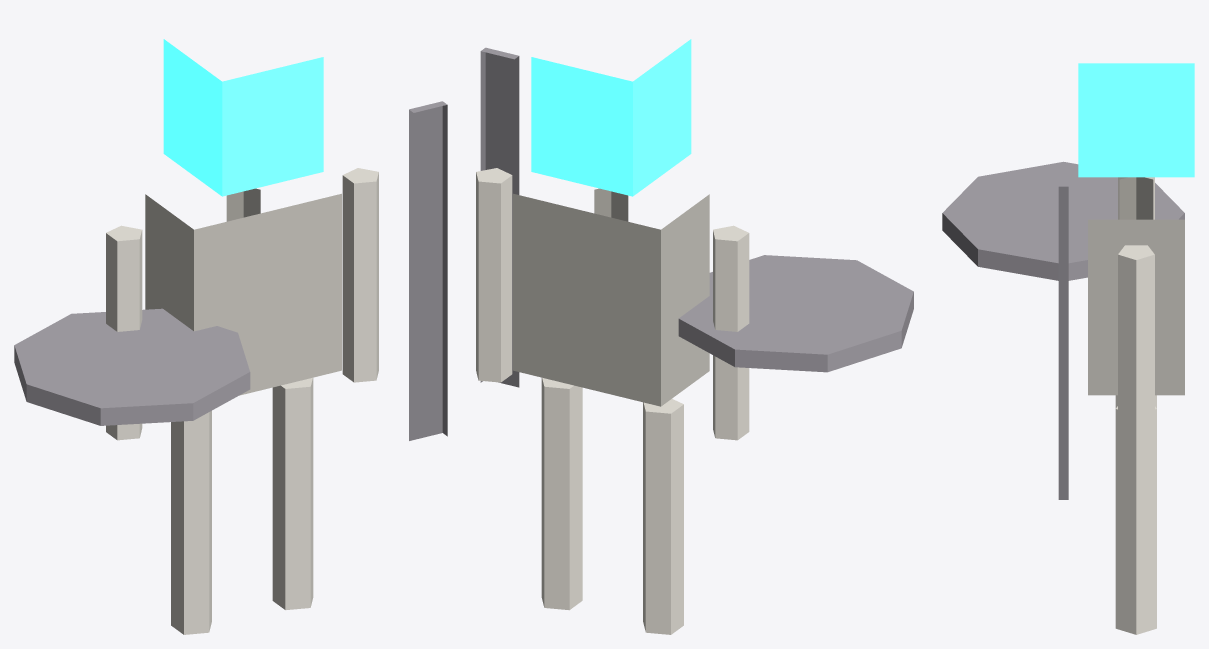
File: enemy_skeleton.glb
The picture shows the model from 3 angles, left to right: view 1: azimuth 30°, elevation 25°; view 2: azimuth 150°, elevation 25°; view 3: azimuth 270°, elevation 25°; orthographic projection.
Visible parts, largest first — view 1: Weapon, Torso, Head, RightLeg, LeftLeg, RightArm, LeftArm; view 2: Torso, Weapon, Head, RightLeg, LeftLeg, RightArm, LeftArm; view 3: Weapon, Head, Torso, RightArm, RightLeg.
Boxes of the visible parts, x1,y1,x2,y2 form: Weapon: [14, 101, 447, 440]; Torso: [145, 188, 341, 395]; Head: [163, 39, 323, 196]; RightLeg: [272, 377, 313, 610]; LeftLeg: [171, 411, 211, 634]; RightArm: [342, 168, 378, 382]; LeftArm: [106, 225, 142, 440]; Torso: [513, 188, 709, 406]; Weapon: [480, 47, 913, 387]; Head: [531, 39, 691, 196]; RightLeg: [541, 377, 582, 610]; LeftLeg: [643, 399, 683, 634]; RightArm: [476, 168, 512, 382]; LeftArm: [713, 225, 749, 440]; Weapon: [942, 161, 1184, 499]; Head: [1078, 63, 1194, 177]; Torso: [1088, 177, 1184, 395]; RightArm: [1118, 245, 1154, 457]; RightLeg: [1115, 406, 1156, 634].
Bounding box in the file's own units: 0.99 × 1.28 × 0.52.
